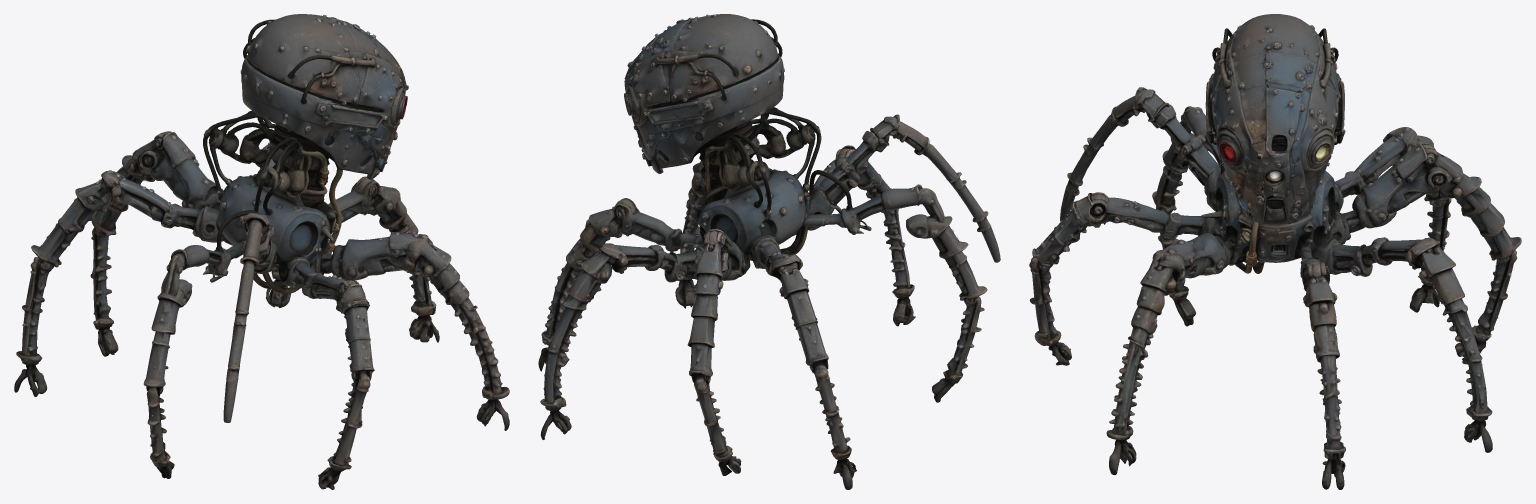
The model's file is perched-a.glb.
3 views of the same model, side by side, from view 1: azimuth 30°, elevation 25°; view 2: azimuth 150°, elevation 25°; view 3: azimuth 270°, elevation 25° (orthographic). The views are drawn at different scales.
Parts seen in each view (by area): view 1: tripo_node_72227eb2-73b1-4c4d-b250-c3349b4f8209; view 2: tripo_node_72227eb2-73b1-4c4d-b250-c3349b4f8209; view 3: tripo_node_72227eb2-73b1-4c4d-b250-c3349b4f8209.
Boxes of the visible parts, box(x1,y1,x2,y2) form: tripo_node_72227eb2-73b1-4c4d-b250-c3349b4f8209: box(14, 14, 509, 489); tripo_node_72227eb2-73b1-4c4d-b250-c3349b4f8209: box(538, 14, 1000, 489); tripo_node_72227eb2-73b1-4c4d-b250-c3349b4f8209: box(1029, 14, 1521, 489).
Bounding box in the file's own units: 0.8824 × 0.8613 × 0.9795.
1 material, 1 textured.
